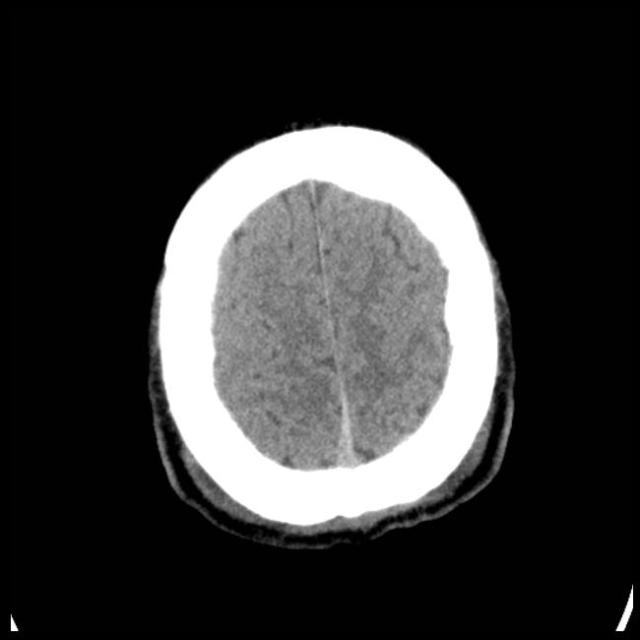lesion: (143, 118, 522, 552)
